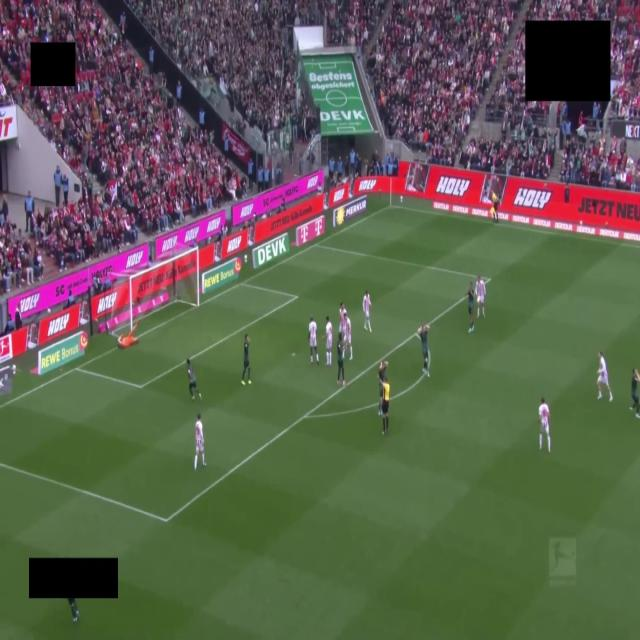player: (598, 352, 612, 401), (539, 398, 551, 452), (418, 324, 430, 377), (194, 414, 205, 470), (187, 360, 201, 399), (241, 334, 251, 385), (118, 323, 138, 348), (630, 368, 639, 418), (379, 361, 387, 415), (309, 316, 318, 364), (337, 333, 345, 385), (475, 276, 485, 317), (467, 282, 475, 333), (325, 316, 333, 366), (344, 313, 352, 360), (363, 290, 371, 332), (68, 599, 79, 623), (491, 192, 499, 223), (339, 303, 346, 334)
referee: (381, 379, 389, 435)
